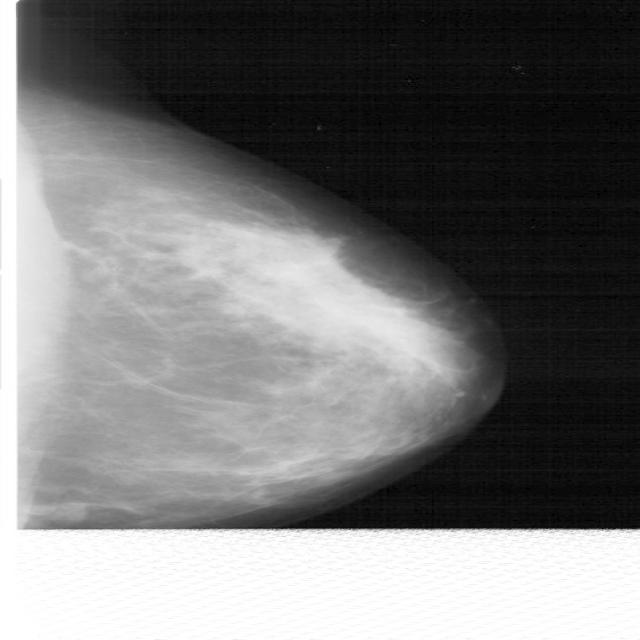tumour: (184, 228, 437, 366)
